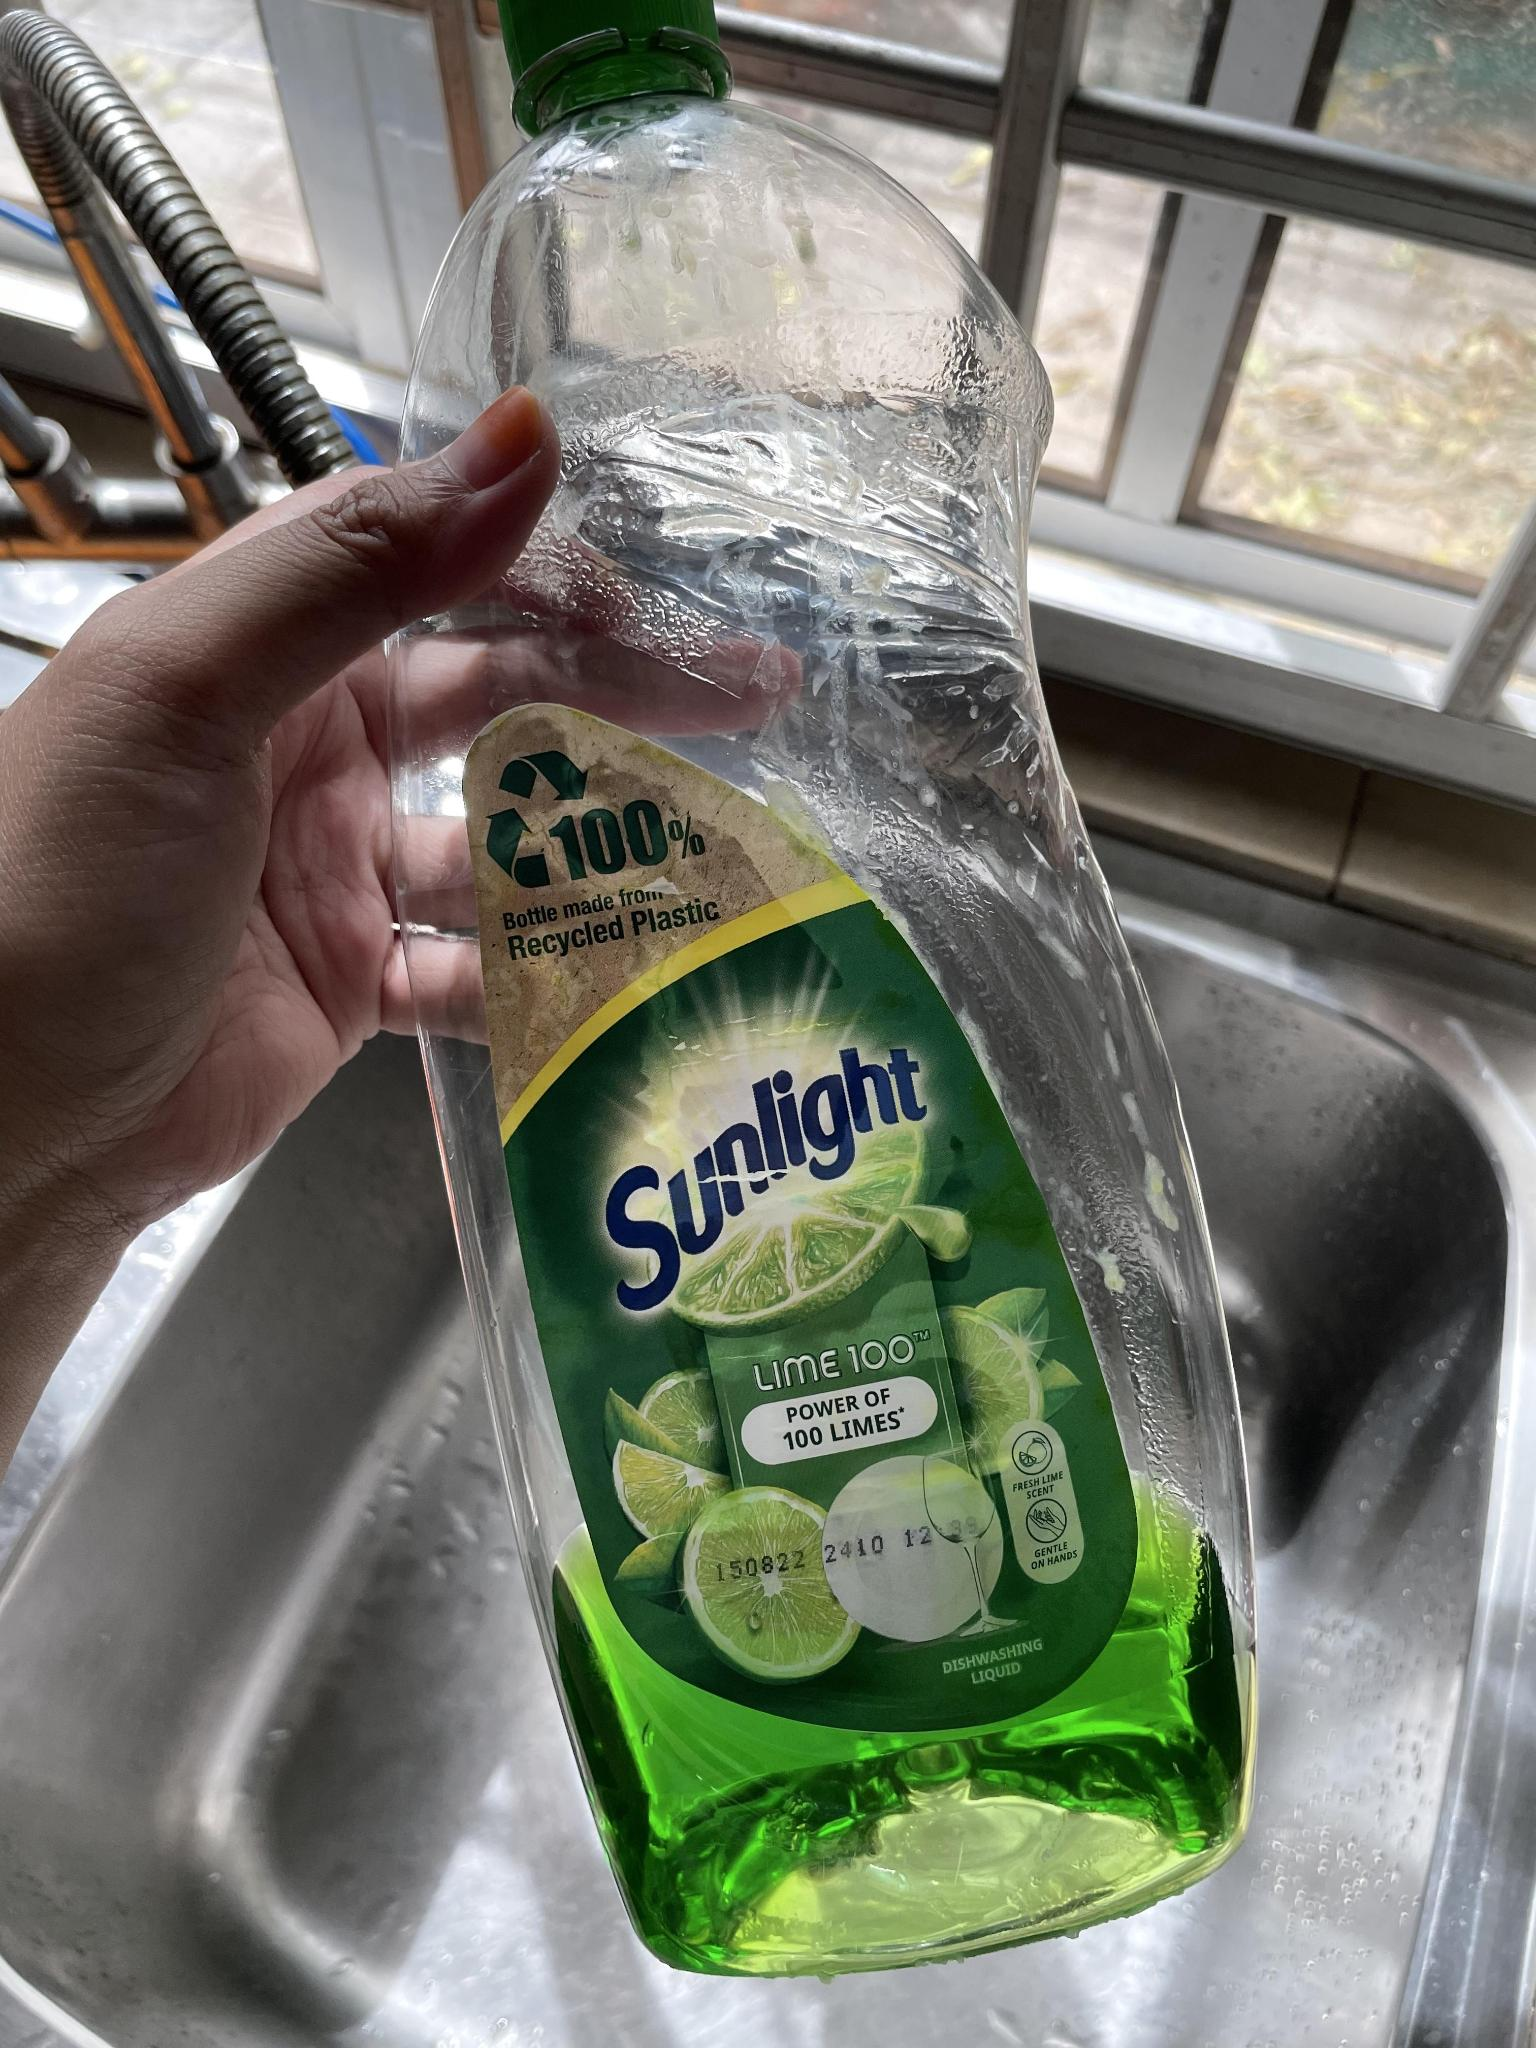plastic: (402, 0, 1271, 1972)
